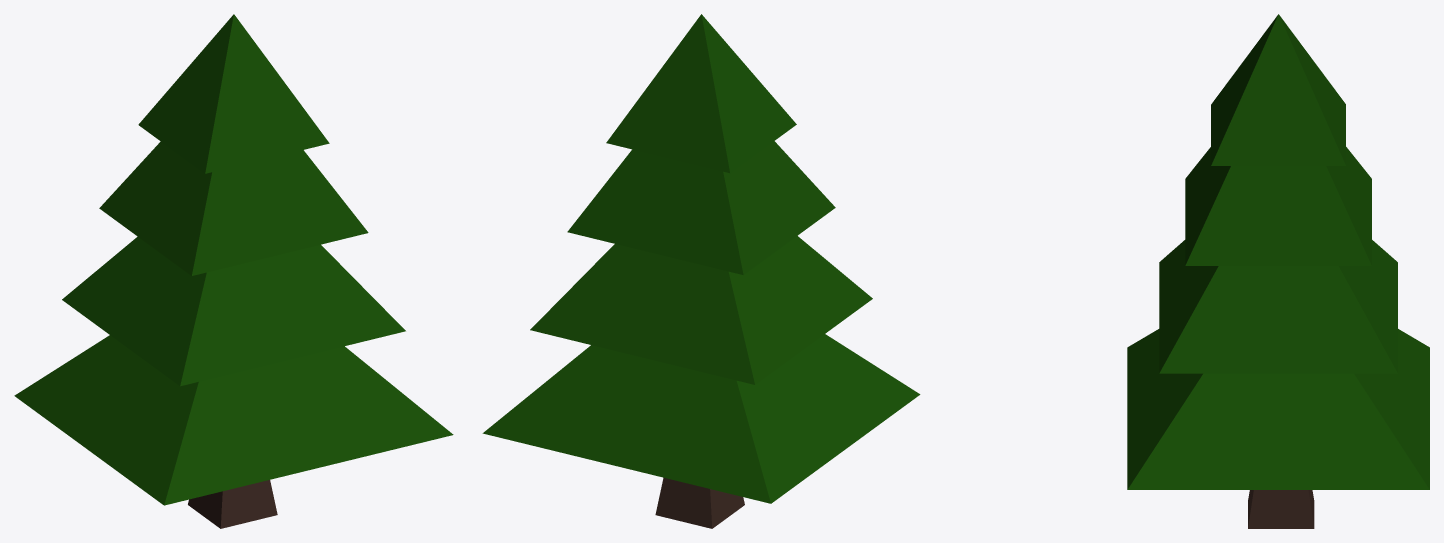
Rendered from Christmas Tree.fbx.
3 views of the same model, side by side, from view 1: azimuth 30°, elevation 25°; view 2: azimuth 150°, elevation 25°; view 3: azimuth 270°, elevation 25° (orthographic).
Parts seen in each view (by area): view 1: Cube; view 2: Cube; view 3: Cube.
Boxes of the visible parts, x1,y1,x2,y2 form: Cube: (14, 14, 453, 528); Cube: (482, 14, 920, 528); Cube: (1127, 14, 1429, 528).
Bounding box in the file's own units: 293 × 480 × 417.
